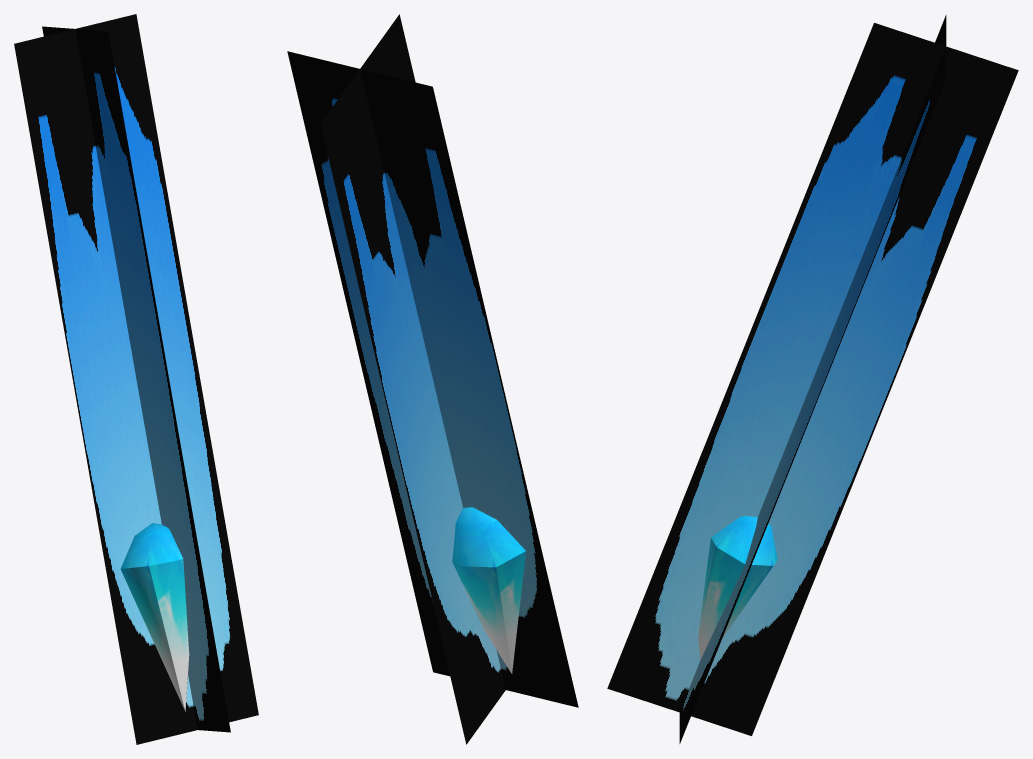
Rendered from Ice_03_1.fbx.
The picture shows the model from 3 angles, left to right: view 1: azimuth 30°, elevation 25°; view 2: azimuth 150°, elevation 25°; view 3: azimuth 270°, elevation 25°; orthographic projection. The views are drawn at different scales.
Parts seen in each view (by area): view 1: tuowei, Ice_01; view 2: tuowei, Ice_01; view 3: tuowei, Ice_01.
Part boxes in pixels (x1,y1,x2,y2): tuowei: [14, 14, 258, 744]; Ice_01: [120, 523, 189, 711]; tuowei: [287, 14, 578, 744]; Ice_01: [452, 507, 525, 673]; tuowei: [607, 15, 1018, 743]; Ice_01: [698, 516, 777, 659].
Bounding box in the file's own units: 0.559 × 2.86 × 1.5.
